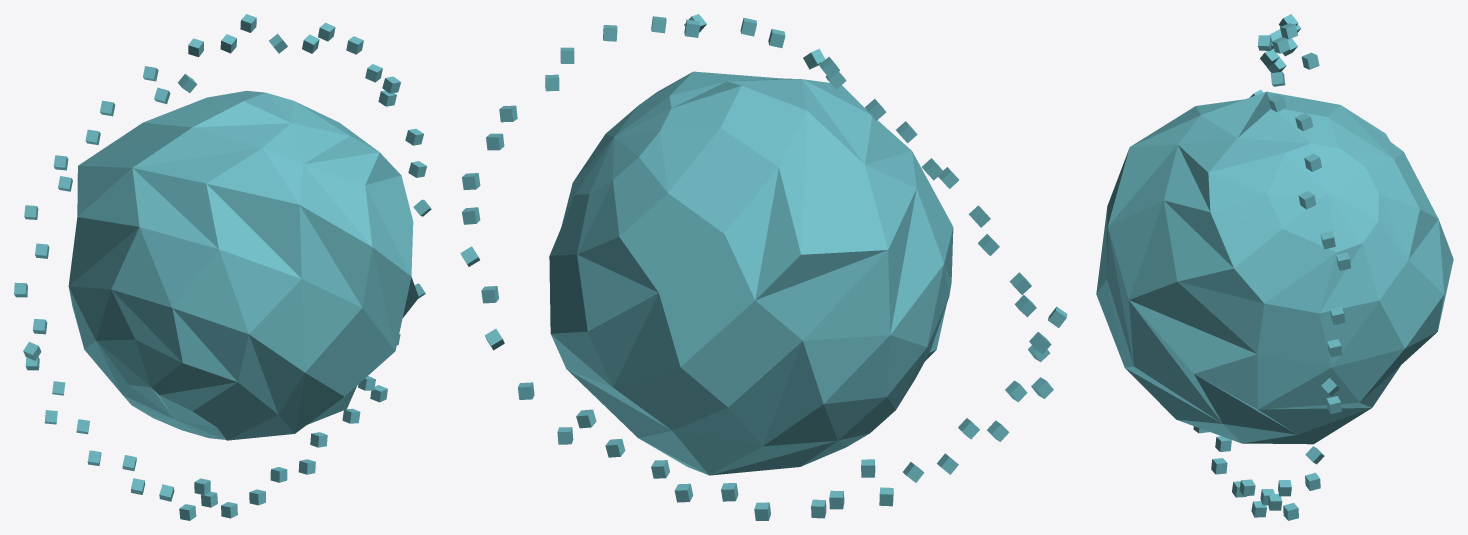
The model's file is uranus.glb.
3 views of the same model, side by side, from view 1: azimuth 30°, elevation 25°; view 2: azimuth 150°, elevation 25°; view 3: azimuth 270°, elevation 25° (orthographic). The views are drawn at different scales.
Visible parts, largest first — view 1: node_MeshObject-988256704-PolyPaper3; view 2: node_MeshObject-988256704-PolyPaper3; view 3: node_MeshObject-988256704-PolyPaper3.
Part boxes in pixels (x1,y1,x2,y2): node_MeshObject-988256704-PolyPaper3: (14, 14, 431, 520); node_MeshObject-988256704-PolyPaper3: (460, 14, 1067, 520); node_MeshObject-988256704-PolyPaper3: (1096, 14, 1453, 520).
Bounding box in the file's own units: 0.7688 × 0.7126 × 0.5086.
